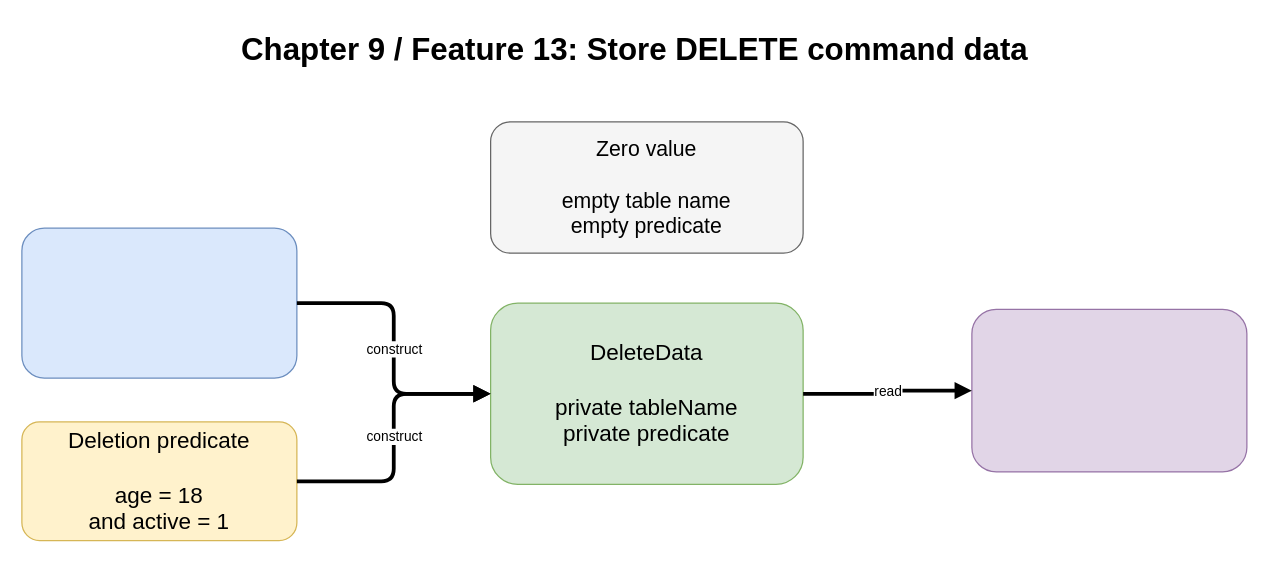
The diagram is 1269 pixels wide and 563 high, and some of its shapes have lost their labels. The shapes that lost their labels are listed below. From the top down, each one's centre as x and y in pixels, then its label:
point (159, 302): Target table student
point (1109, 390): Read-only accessors TableName() Predicate()
